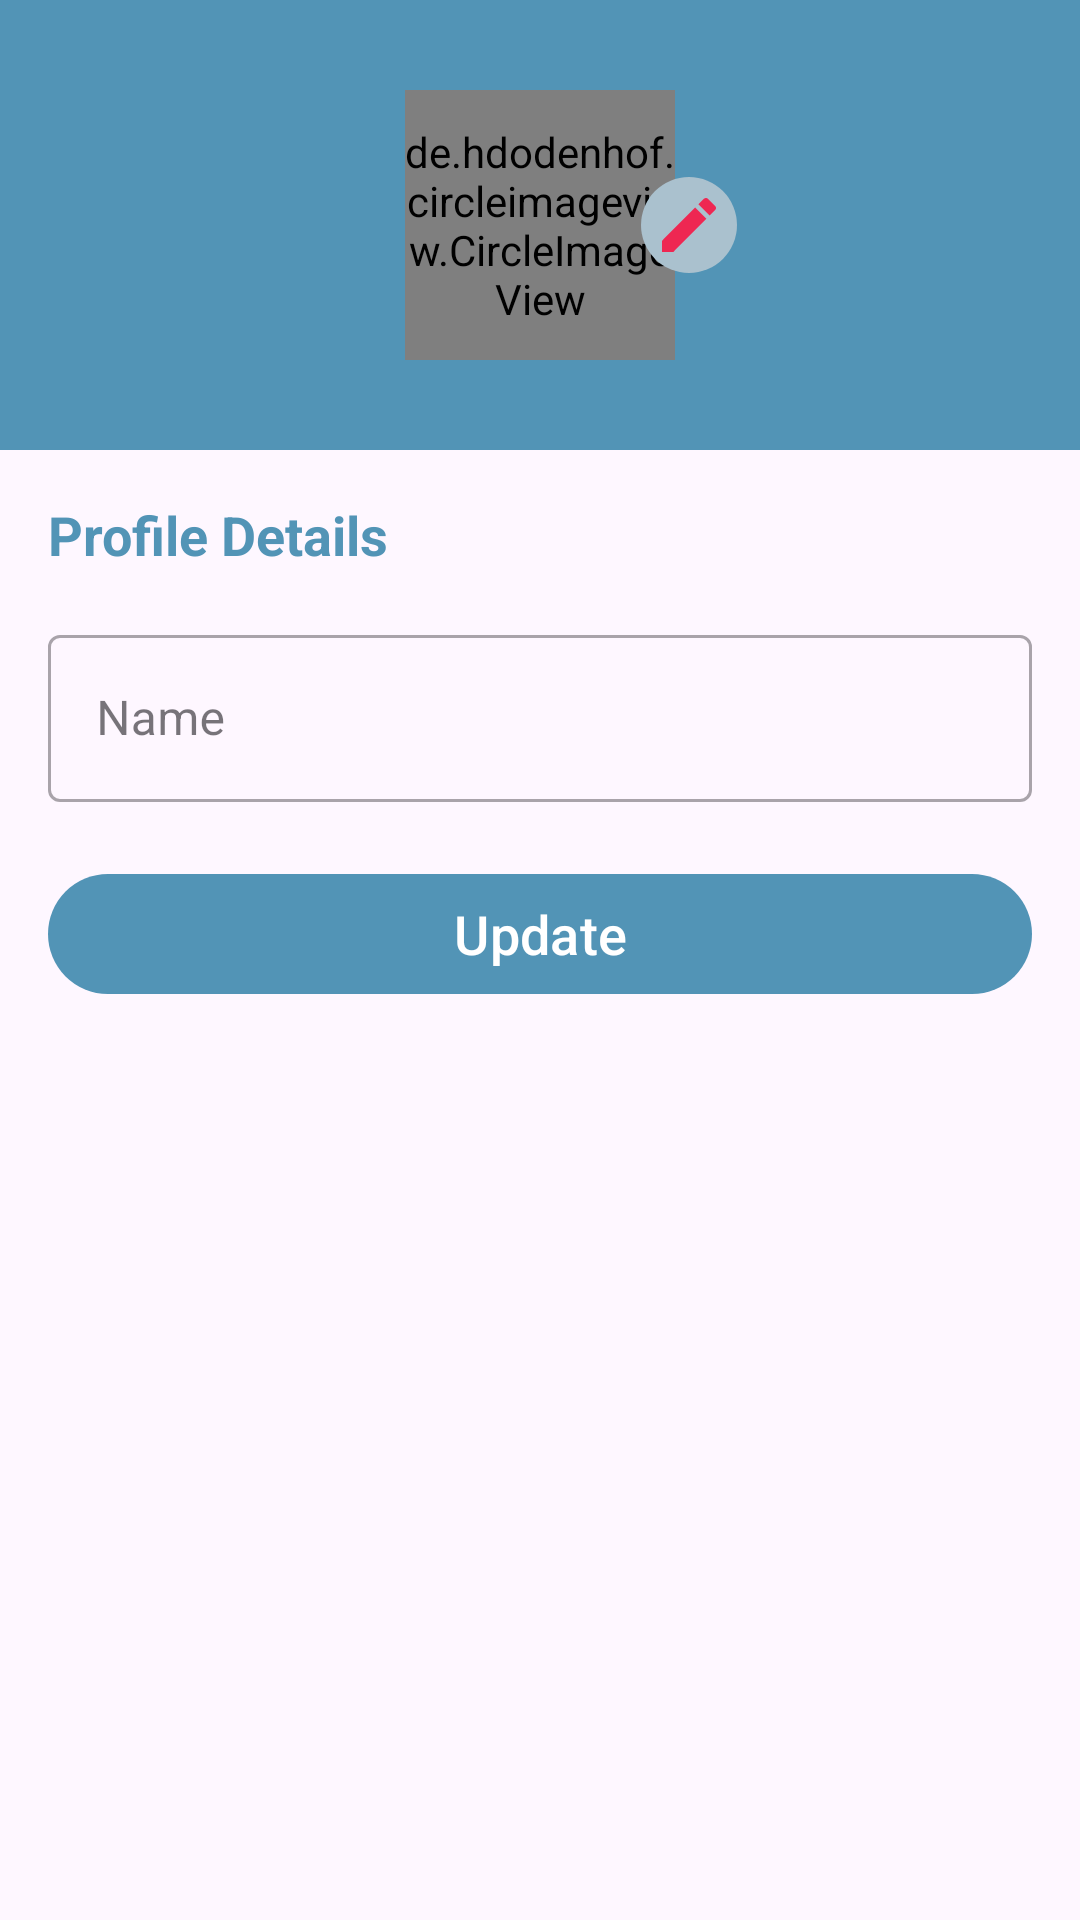

Point at icon controls on the screen. Image size 1080×1920, points as (x=x, y=y).
edit: (x=689, y=225)
